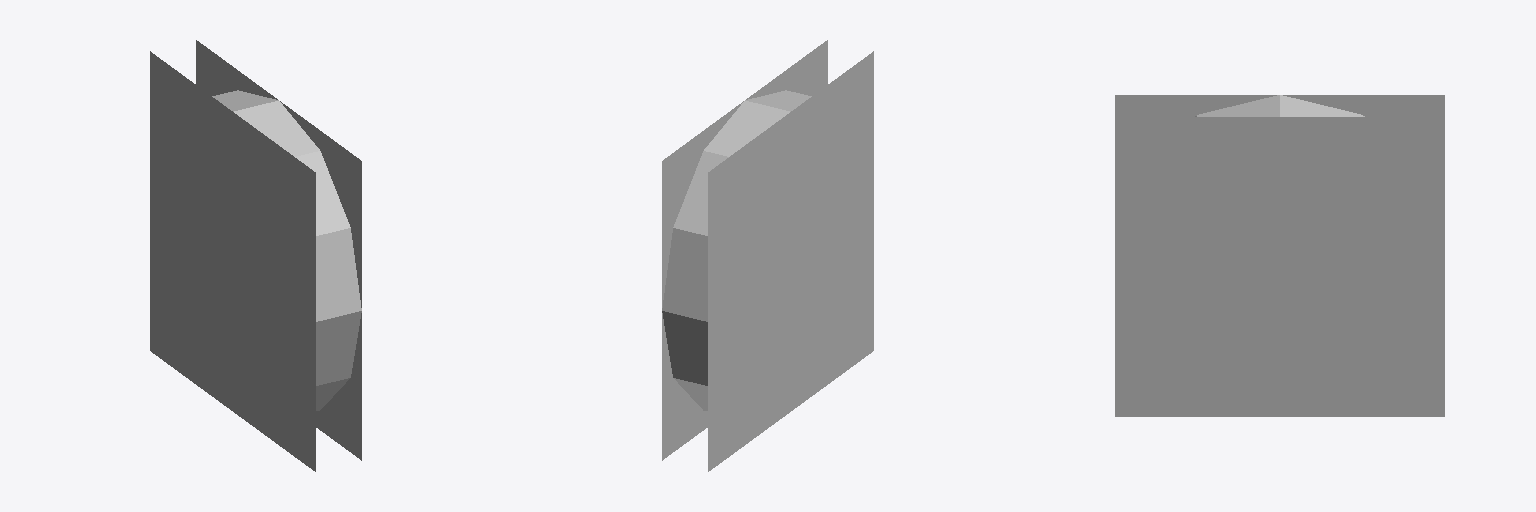
Rendered from kr.acii.OBJ.
3 renders of one model, left to right at view 1: azimuth 30°, elevation 25°; view 2: azimuth 150°, elevation 25°; view 3: azimuth 270°, elevation 25°, orthographic.
Size of the model in its own units: 0.1118 by 0.6908 by 0.6908.